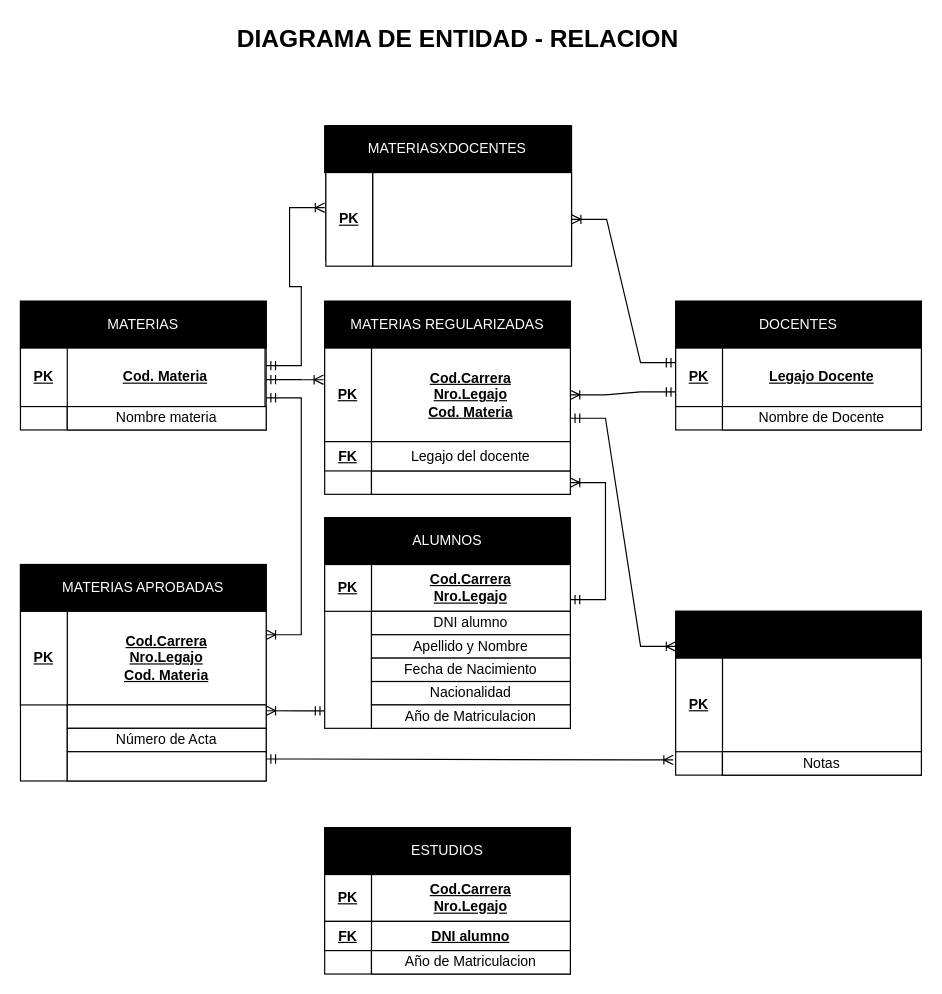
Some shapes in this 942 by 994 pixel diagram are drawn without their labels. The shapes that lost their labels are listed below. From the top down, each one's centre as x and y in pixels, then its label:
(x=471, y=218): Cod.Carrera Cod. Materia Legajo Docente
(x=470, y=482): Año de cursada
(x=798, y=634): CALIFICACIONES
(x=166, y=716): Fecha
(x=821, y=704): Cod.Carrera Nro.Legajo Cod. Materia Evaluación
(x=166, y=766): Nota
